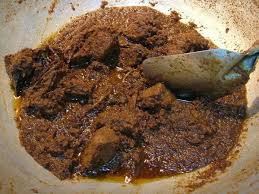rendang: (5, 1, 252, 184)
